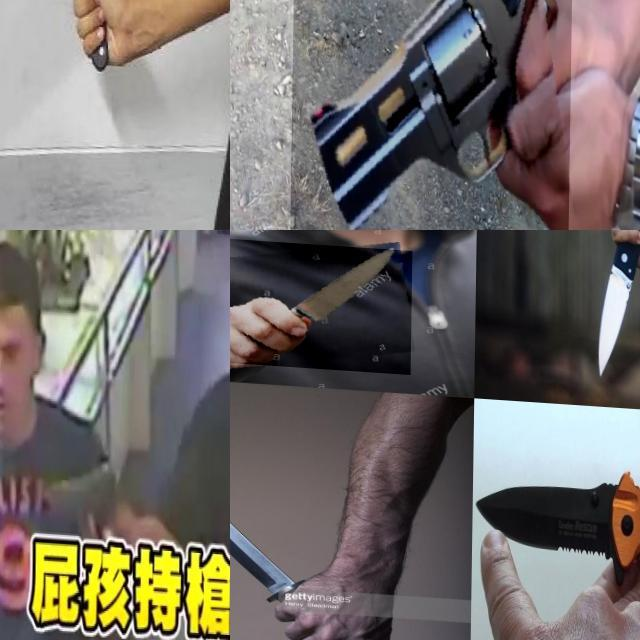-: (230, 236, 413, 371), (472, 443, 640, 589), (230, 460, 328, 640), (590, 230, 640, 378), (59, 0, 115, 57)
gun-knife-thesis - v11 Yolov5 augmented: (291, 0, 572, 230), (0, 267, 79, 400)
